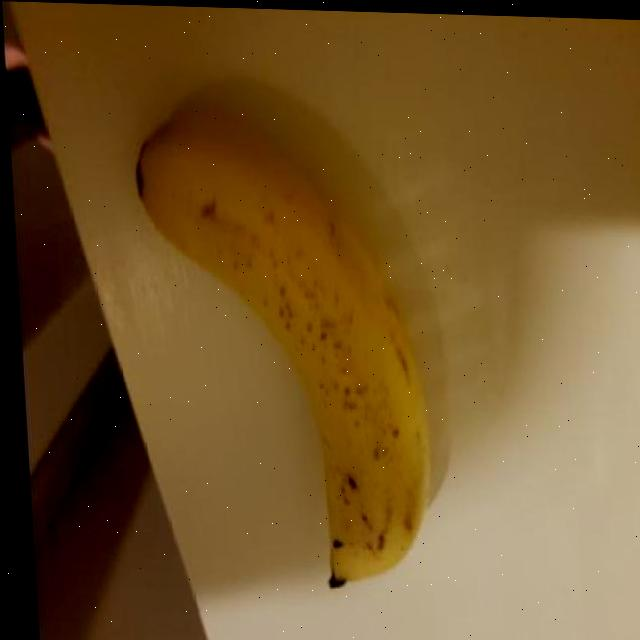banana: (125, 101, 440, 603)
